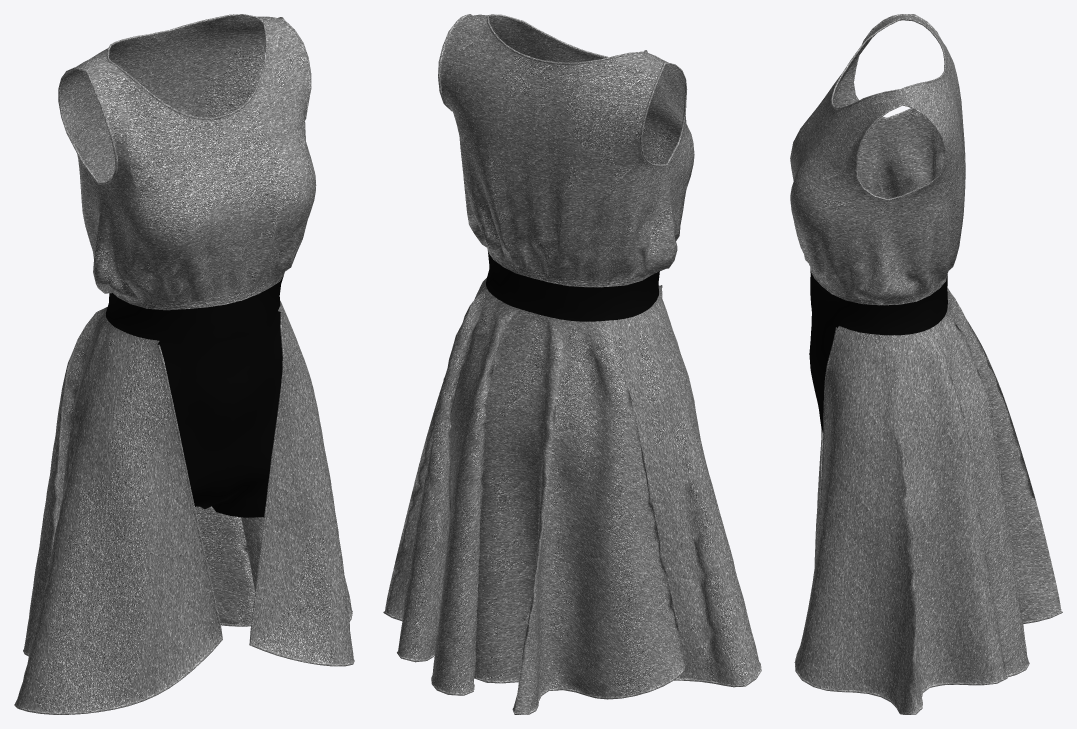
The model's file is dress1.glb.
The picture shows the model from 3 angles, left to right: view 1: azimuth 30°, elevation 25°; view 2: azimuth 150°, elevation 25°; view 3: azimuth 270°, elevation 25°; orthographic projection. The views are drawn at different scales.
Parts seen in each view (by area): view 1: Object_3, Object_2; view 2: Object_3, Object_2; view 3: Object_3, Object_2.
Part boxes in pixels (x1,y1,x2,y2): Object_3: (14, 14, 354, 714); Object_2: (106, 275, 283, 517); Object_3: (383, 14, 761, 714); Object_2: (486, 252, 659, 321); Object_3: (790, 14, 1062, 714); Object_2: (809, 271, 947, 432).
Bounding box in the file's own units: 52.96 × 90.23 × 37.62.
2 materials, 1 textured.
